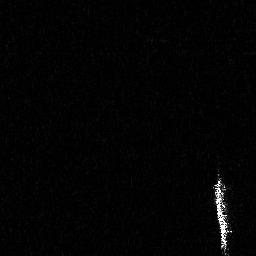ship: (211, 166, 235, 256)
